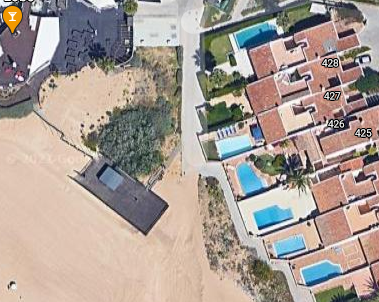pool: (236, 167, 268, 195), (236, 30, 285, 46), (253, 205, 294, 224), (276, 239, 308, 256), (302, 264, 337, 278), (217, 138, 251, 152)
